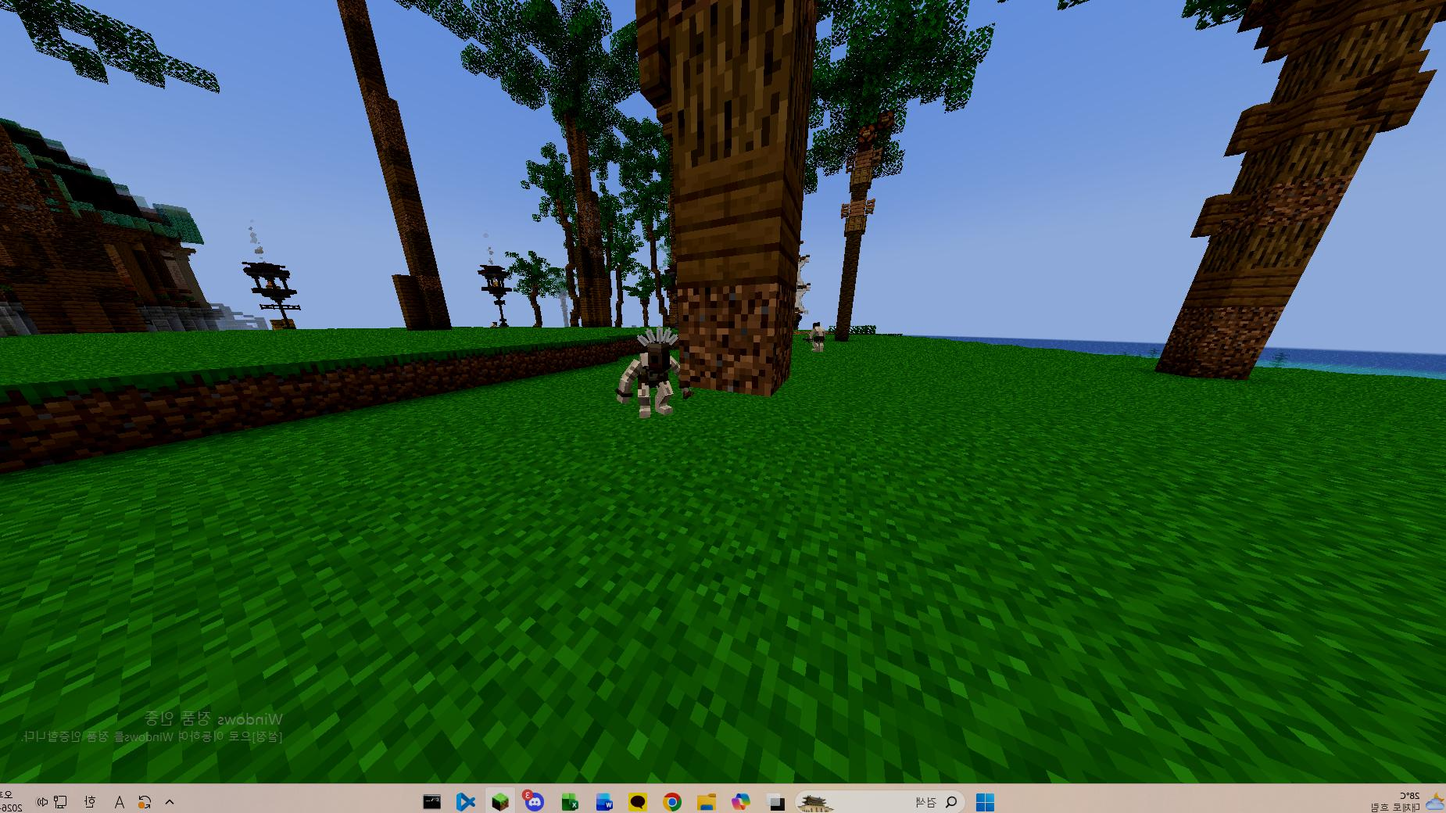bow_indian: (611, 312, 706, 425)
